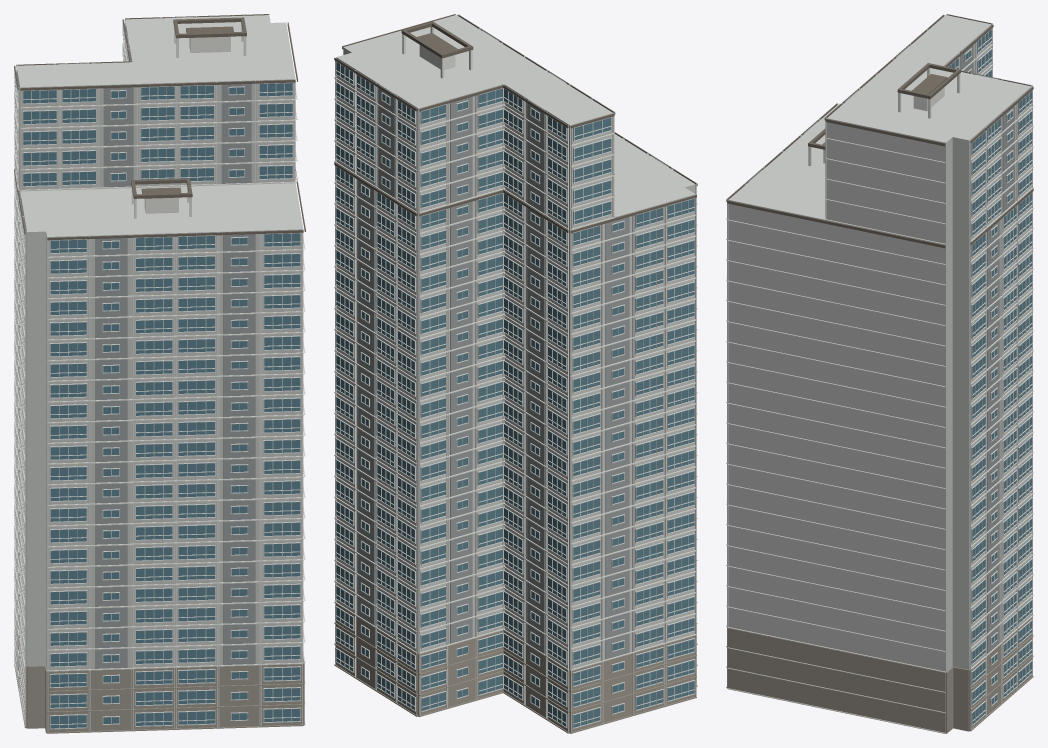
The model's file is bespoke-banpo-xi-119.glb.
3 renders of one model, left to right at view 1: azimuth 30°, elevation 25°; view 2: azimuth 150°, elevation 25°; view 3: azimuth 270°, elevation 25°, orthographic. The views are drawn at different scales.
Parts seen in each view (by area): view 1: editable_BX119_pale_silver_limestone, editable_BX119_blue_grey_broad_glazing, editable_BX119_white_window_frames, editable_BX119_ivory_course_bands, editable_BX119_grey_service_core, editable_BX119_warm_ground_stone, editable_BX119_dark_coping; view 2: editable_BX119_blue_grey_broad_glazing, editable_BX119_pale_silver_limestone, editable_BX119_white_window_frames, editable_BX119_ivory_course_bands, editable_BX119_grey_service_core, editable_BX119_warm_ground_stone, editable_BX119_dark_coping; view 3: editable_BX119_pale_silver_limestone, editable_BX119_ivory_course_bands, editable_BX119_warm_ground_stone, editable_BX119_white_window_frames, editable_BX119_blue_grey_broad_glazing, editable_BX119_grey_service_core, editable_BX119_dark_coping.
Boxes of the visible parts, left/top/right/bottom form: editable_BX119_pale_silver_limestone: left=16, top=15, right=303, bottom=670; editable_BX119_blue_grey_broad_glazing: left=16, top=23, right=300, bottom=728; editable_BX119_white_window_frames: left=14, top=23, right=300, bottom=729; editable_BX119_ivory_course_bands: left=14, top=14, right=305, bottom=732; editable_BX119_grey_service_core: left=18, top=17, right=255, bottom=668; editable_BX119_warm_ground_stone: left=14, top=623, right=304, bottom=733; editable_BX119_dark_coping: left=14, top=14, right=305, bottom=240; editable_BX119_blue_grey_broad_glazing: left=336, top=62, right=694, bottom=727; editable_BX119_pale_silver_limestone: left=336, top=15, right=695, bottom=732; editable_BX119_white_window_frames: left=335, top=61, right=695, bottom=728; editable_BX119_ivory_course_bands: left=334, top=14, right=697, bottom=733; editable_BX119_grey_service_core: left=358, top=30, right=669, bottom=659; editable_BX119_warm_ground_stone: left=334, top=604, right=697, bottom=733; editable_BX119_dark_coping: left=334, top=14, right=697, bottom=233; editable_BX119_pale_silver_limestone: left=728, top=15, right=1031, bottom=672; editable_BX119_ivory_course_bands: left=726, top=14, right=1033, bottom=733; editable_BX119_warm_ground_stone: left=726, top=617, right=1033, bottom=733; editable_BX119_white_window_frames: left=948, top=28, right=1032, bottom=725; editable_BX119_blue_grey_broad_glazing: left=948, top=29, right=1031, bottom=725; editable_BX119_grey_service_core: left=748, top=40, right=1014, bottom=653; editable_BX119_dark_coping: left=726, top=14, right=1033, bottom=248.
Size of the model in its own units: 41.97 by 81.3 by 36.95.
